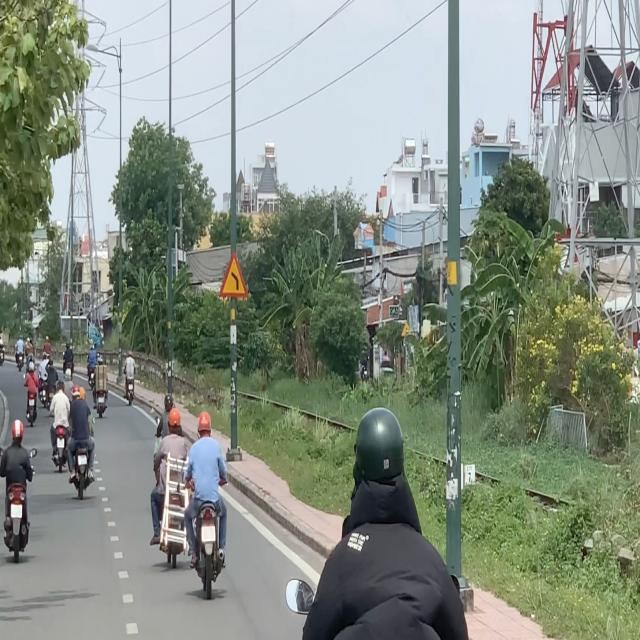Nguy hiem: (218, 250, 250, 300)
